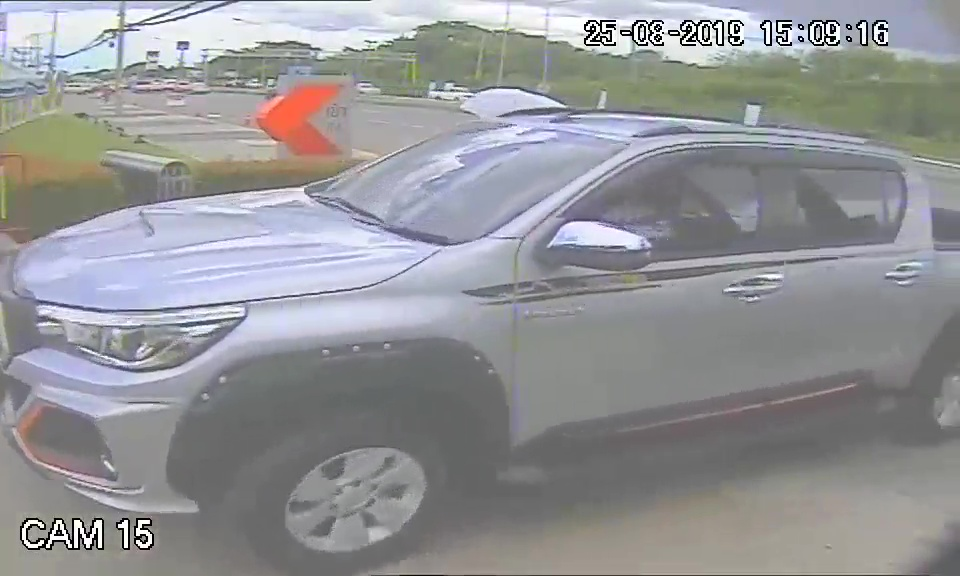pickup: (5, 108, 936, 517)
